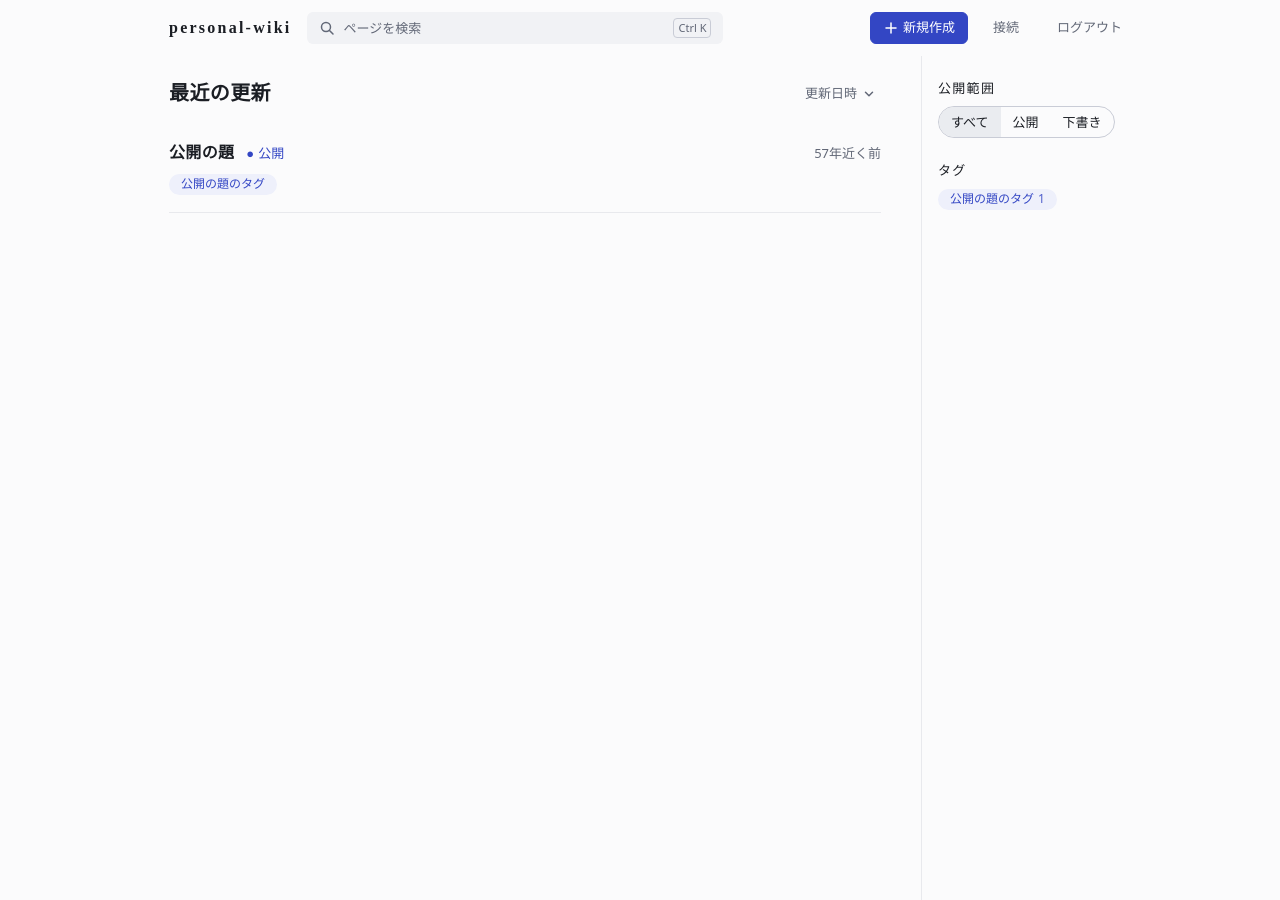
Test case: App の owner の画面 › ログアウトに失敗して状態も取得できなければ、エラーの画面にする
Click the button "ログアウト" at (1090, 28), box 1044,12 -> 1135,44
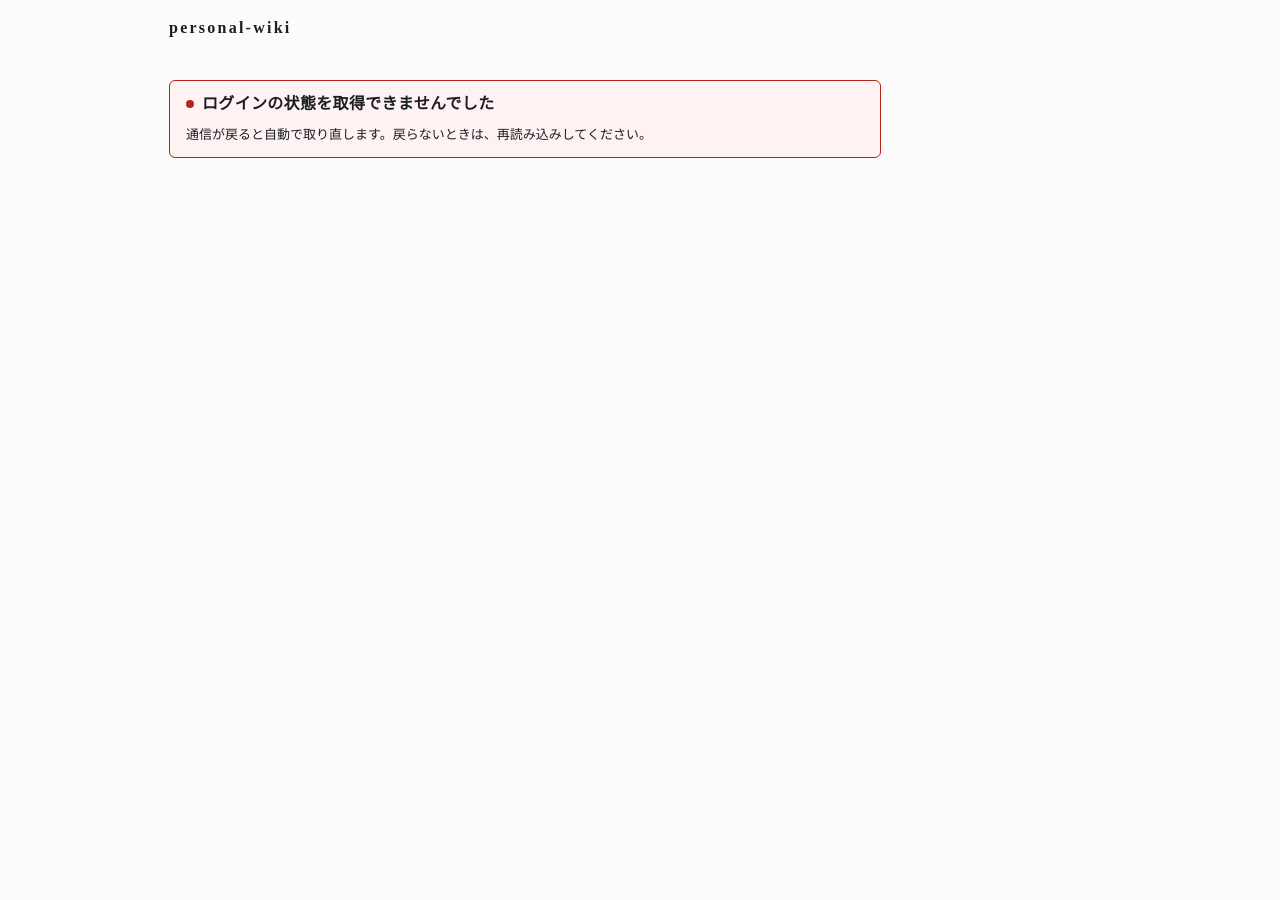
Now the message "ログインの状態を取得できませんでした 通信が戻ると自動で取り直します。戻らないときは、再読み込みしてください。" is shown, box 186,95 -> 652,143
